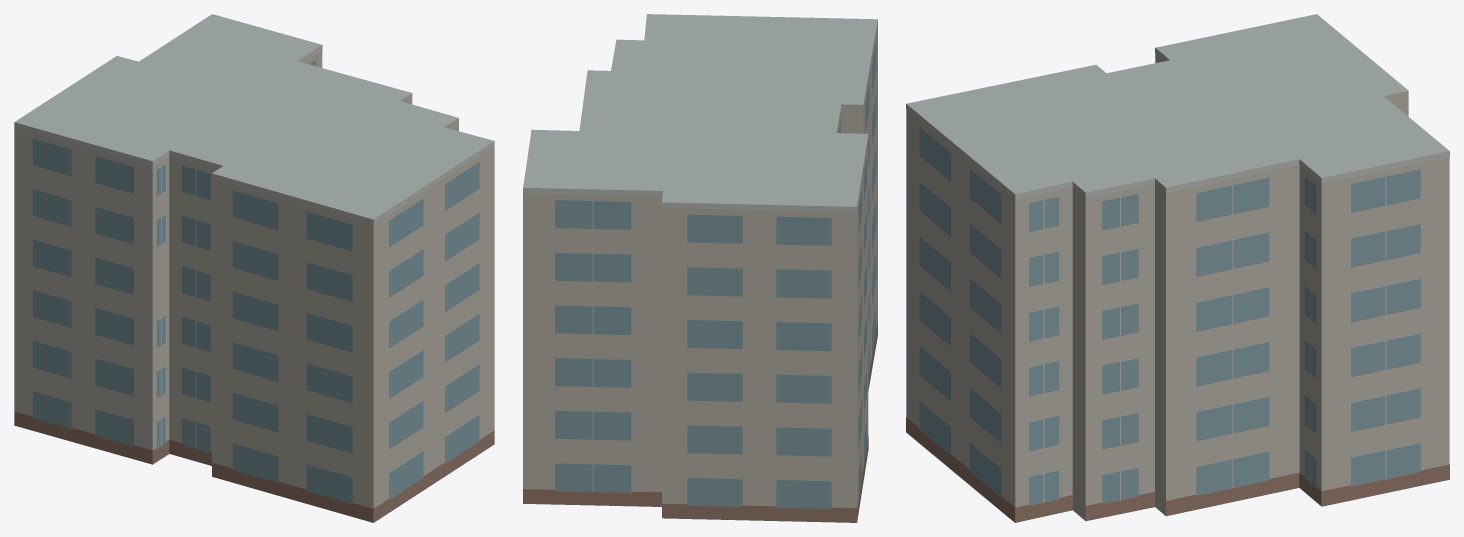
The model's file is survey-upis-32838287.glb.
3 renders of one model, left to right at view 1: azimuth 30°, elevation 25°; view 2: azimuth 150°, elevation 25°; view 3: azimuth 270°, elevation 25°, orthographic. The views are drawn at different scales.
Parts seen in each view (by area): view 1: survey-upis-32838287.tmp; view 2: survey-upis-32838287.tmp; view 3: survey-upis-32838287.tmp.
Boxes of the visible parts, box(x1,y1,x2,y2) form: survey-upis-32838287.tmp: box(14, 14, 494, 522); survey-upis-32838287.tmp: box(523, 14, 877, 522); survey-upis-32838287.tmp: box(906, 14, 1449, 522).
Bounding box in the file's own units: 16.83 × 14.3 × 21.45.
